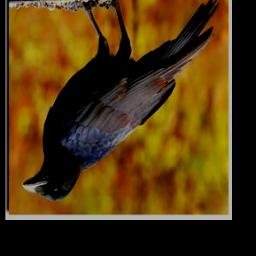Crow: (22, 0, 221, 205)
